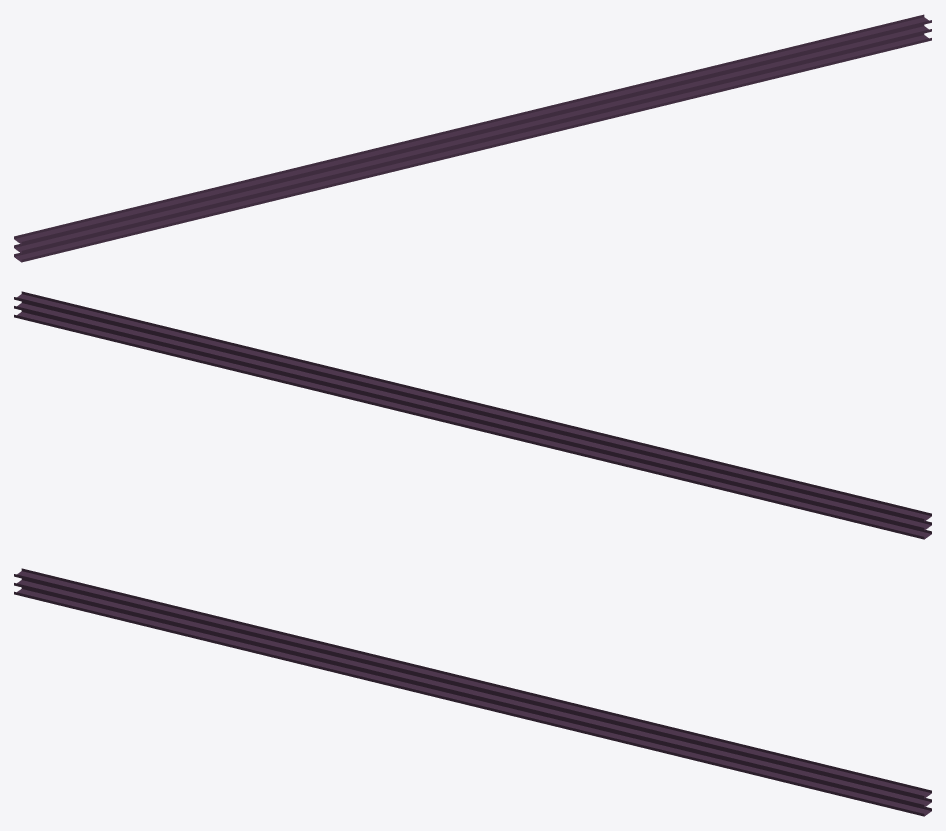
File: GCC-AAV-13220-30(16).fbx
3 views of the same model, one above another, from view 1: azimuth 30°, elevation 25°; view 2: azimuth 150°, elevation 25°; view 3: azimuth 330°, elevation 25° (orthographic).
Size of the model in its own units: 1096 by 23.82 by 16.02.
